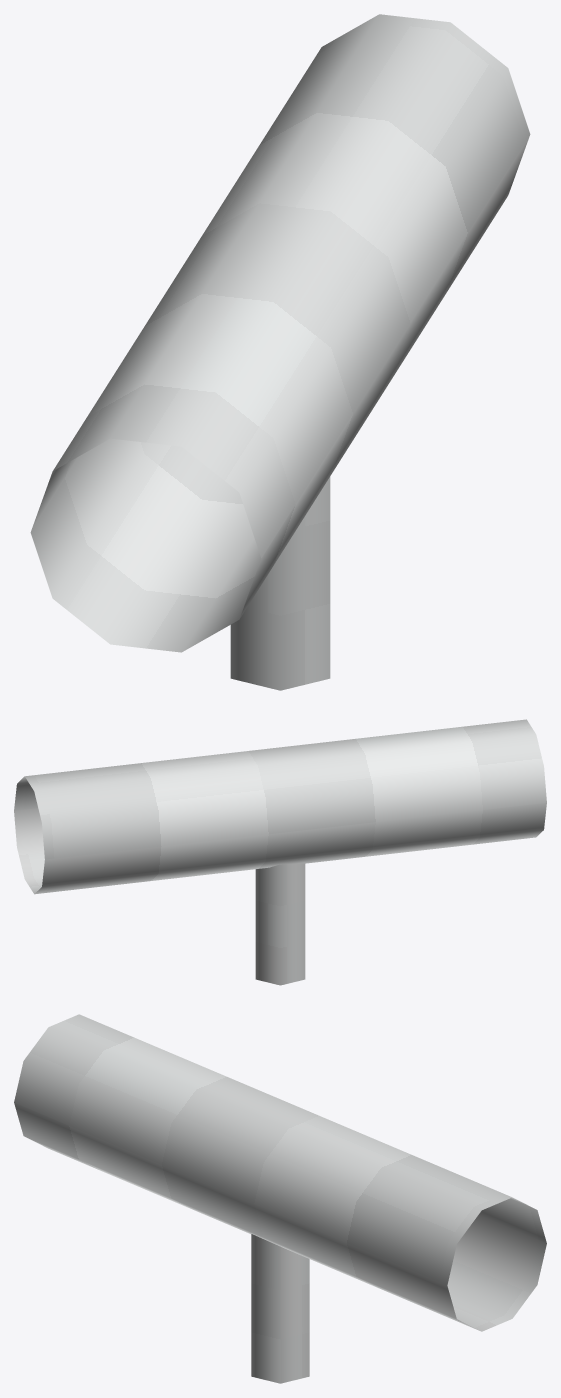
Rendered from trusssignalarm_diagonal8_c7.obj.
3 views of the same model, one above another, from view 1: azimuth 30°, elevation 25°; view 2: azimuth 150°, elevation 25°; view 3: azimuth 270°, elevation 25° (orthographic). The views are drawn at different scales.
Parts seen in each view (by area): view 1: trusssignalarm_diagonal8_c7; view 2: trusssignalarm_diagonal8_c7; view 3: trusssignalarm_diagonal8_c7.
Boxes of the visible parts, x1,y1,x2,y2 form: trusssignalarm_diagonal8_c7: [30, 14, 530, 690]; trusssignalarm_diagonal8_c7: [14, 719, 546, 985]; trusssignalarm_diagonal8_c7: [14, 1014, 546, 1383].
Bounding box in the file's own units: 1.23 × 0.6545 × 1.23.
